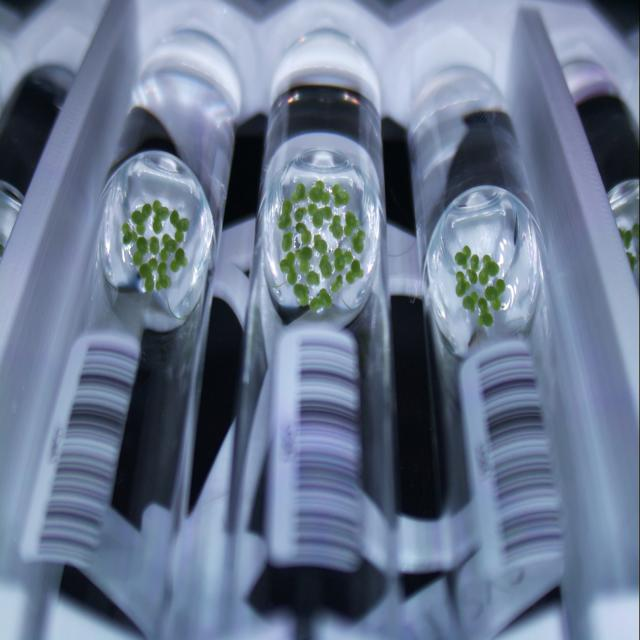Lemna-Gibba: (131, 203, 152, 235), (139, 257, 158, 292), (170, 210, 189, 243), (485, 279, 505, 310), (308, 203, 332, 228), (479, 255, 499, 285), (280, 252, 298, 285), (152, 200, 169, 233), (309, 180, 330, 205), (160, 233, 178, 262), (131, 232, 146, 266), (310, 289, 332, 312), (295, 245, 312, 274), (478, 297, 494, 327), (345, 259, 364, 284), (334, 247, 354, 270), (170, 247, 188, 272), (155, 262, 171, 290), (278, 198, 292, 230), (295, 222, 311, 250), (332, 183, 350, 207), (455, 270, 470, 297), (344, 212, 360, 237), (455, 245, 471, 269), (351, 228, 365, 254), (329, 215, 344, 238), (462, 292, 479, 312), (319, 254, 332, 279), (122, 223, 138, 243), (291, 183, 306, 203), (294, 284, 309, 304), (469, 254, 479, 284), (314, 233, 328, 254), (330, 274, 342, 294), (281, 232, 292, 252), (306, 270, 320, 285), (149, 237, 160, 254), (294, 207, 306, 222), (169, 238, 176, 252), (161, 254, 169, 260)
